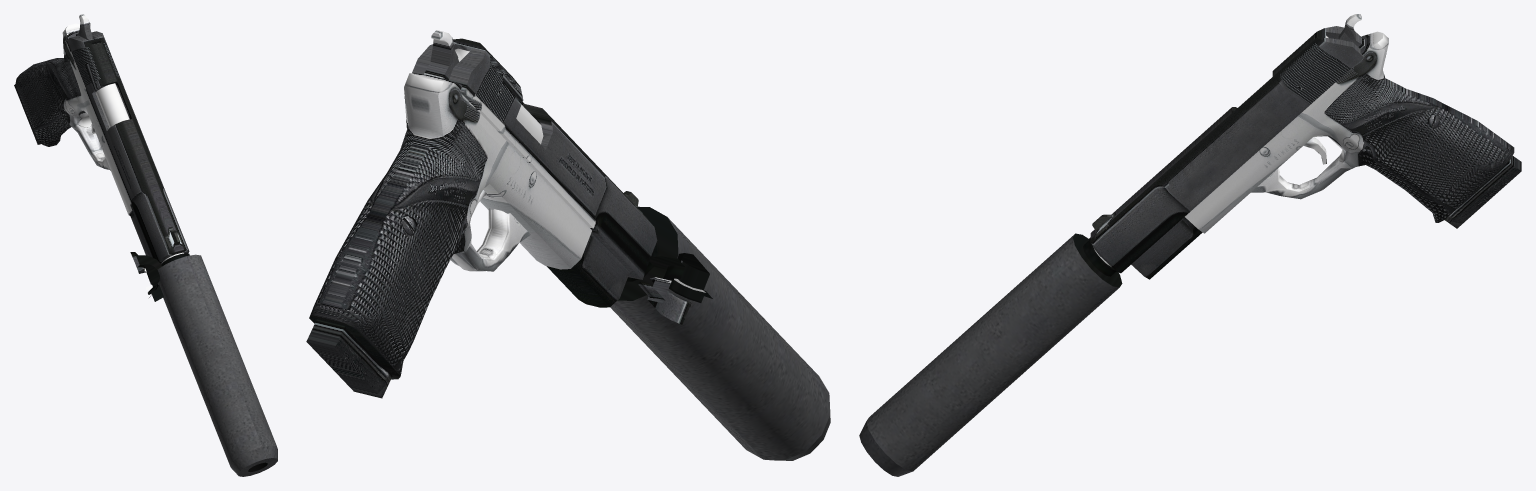
File: gun.glb
3 renders of one model, left to right at view 1: azimuth 30°, elevation 25°; view 2: azimuth 150°, elevation 25°; view 3: azimuth 270°, elevation 25°, orthographic. The views are drawn at different scales.
Parts seen in each view (by area): view 1: 3d5d6e3278034a459d3cf63ee6cfcef8; view 2: 3d5d6e3278034a459d3cf63ee6cfcef8; view 3: 3d5d6e3278034a459d3cf63ee6cfcef8.
Boxes of the visible parts, bbox=[...] form: 3d5d6e3278034a459d3cf63ee6cfcef8: bbox=[14, 14, 277, 476]; 3d5d6e3278034a459d3cf63ee6cfcef8: bbox=[306, 30, 830, 460]; 3d5d6e3278034a459d3cf63ee6cfcef8: bbox=[859, 14, 1521, 476].
Bounding box in the file's own units: 0.0648 × 0.3669 × 0.4802.
1 material, 1 textured.
